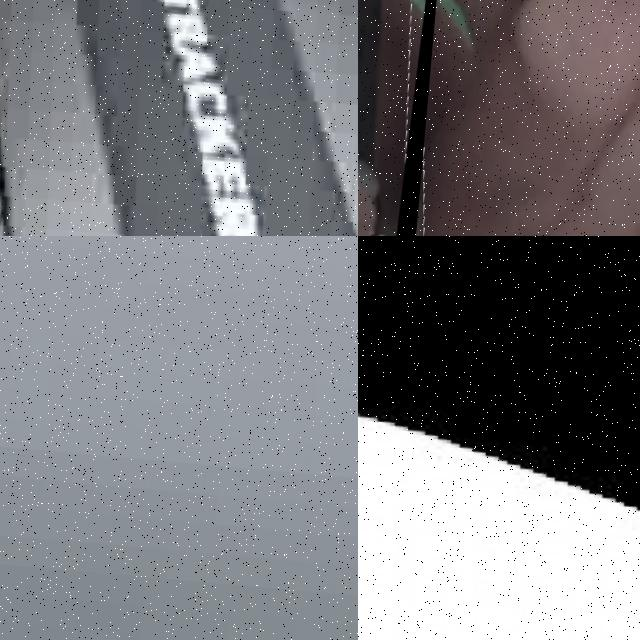0: (0, 0, 358, 236)
drone: (358, 236, 640, 640), (358, 0, 463, 236)
